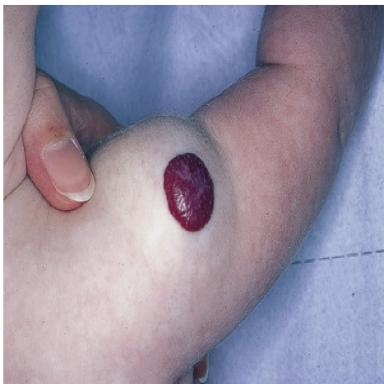Hemangiome: (163, 154, 213, 231)
